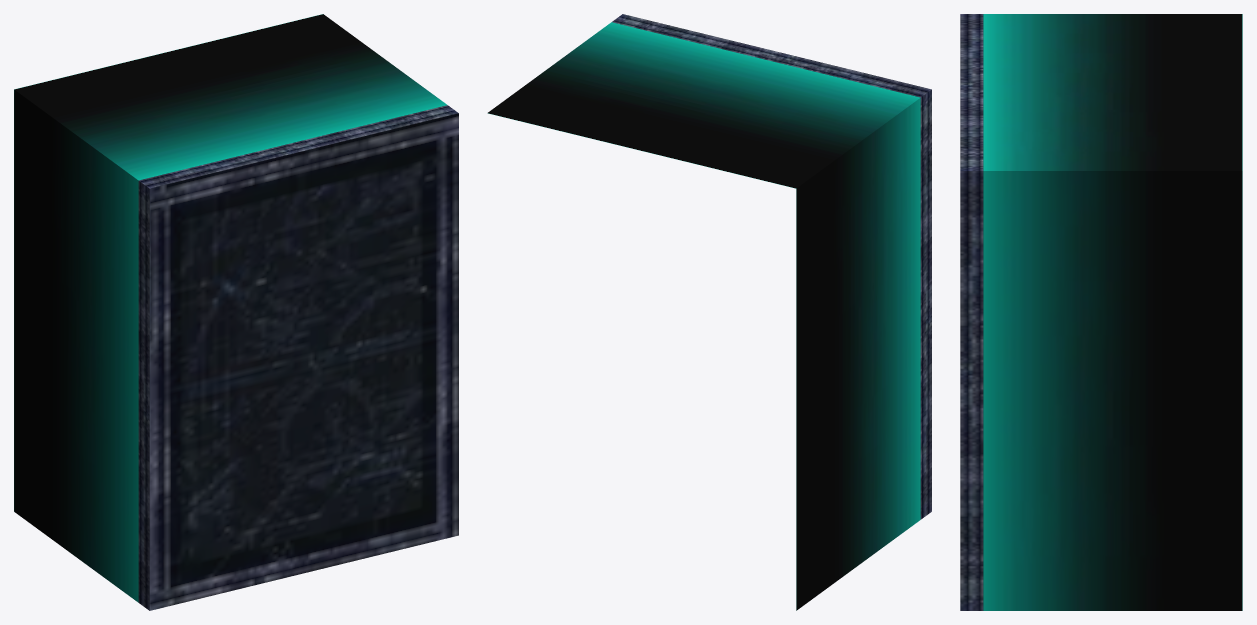
3 views of the same model, side by side, from view 1: azimuth 30°, elevation 25°; view 2: azimuth 150°, elevation 25°; view 3: azimuth 270°, elevation 25° (orthographic). The views are drawn at different scales.
Visible parts, largest first — view 1: model_Object66; view 2: model_Object66; view 3: model_Object66.
Part boxes in pixels (bbox=[...]): model_Object66: bbox=[14, 14, 458, 610]; model_Object66: bbox=[487, 14, 931, 610]; model_Object66: bbox=[960, 14, 1242, 610].
Size of the model in its own units: 1.51 by 1.97 by 1.15.
Materials: 3 (3 with a texture image).
